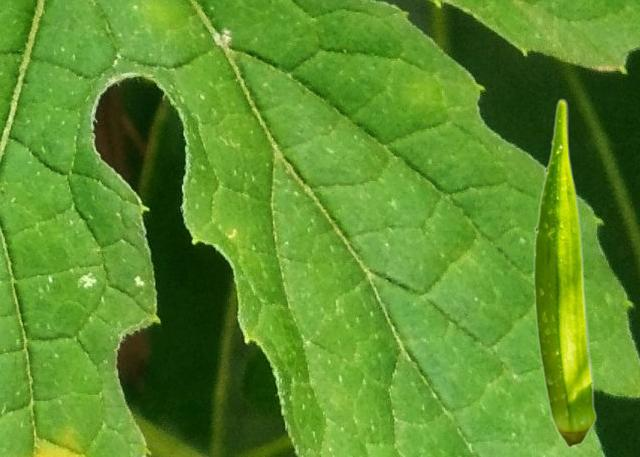okra: (533, 98, 596, 447)
